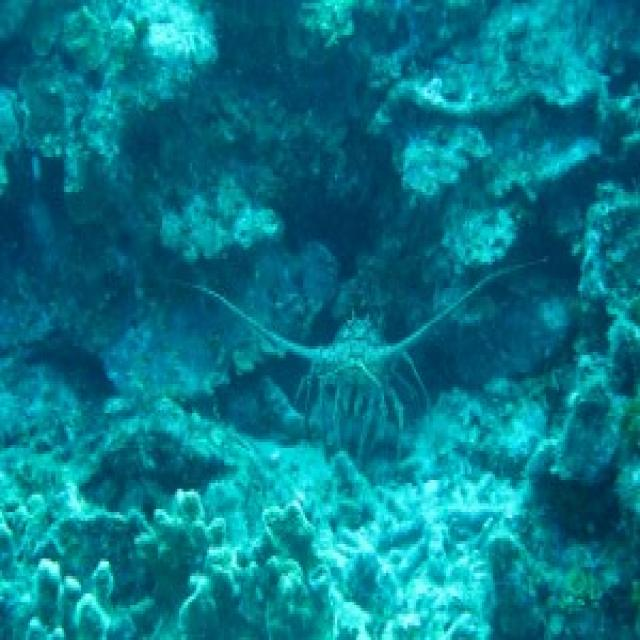lobsters: (152, 212, 546, 496)
